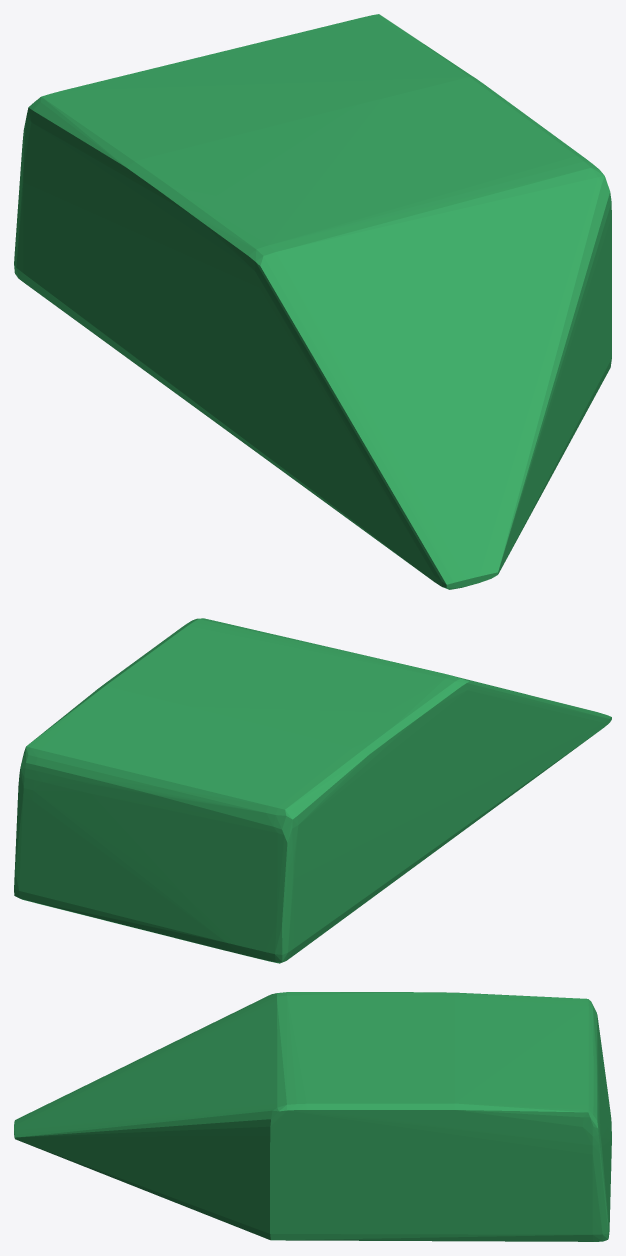
The model's file is left-hip-pitch-0_part_10.obj.
The picture shows the model from 3 angles, top to bottom: view 1: azimuth 30°, elevation 25°; view 2: azimuth 150°, elevation 25°; view 3: azimuth 270°, elevation 25°; orthographic projection. The views are drawn at different scales.
Bounding box in the file's own units: 0.0665 × 0.036 × 0.14.
